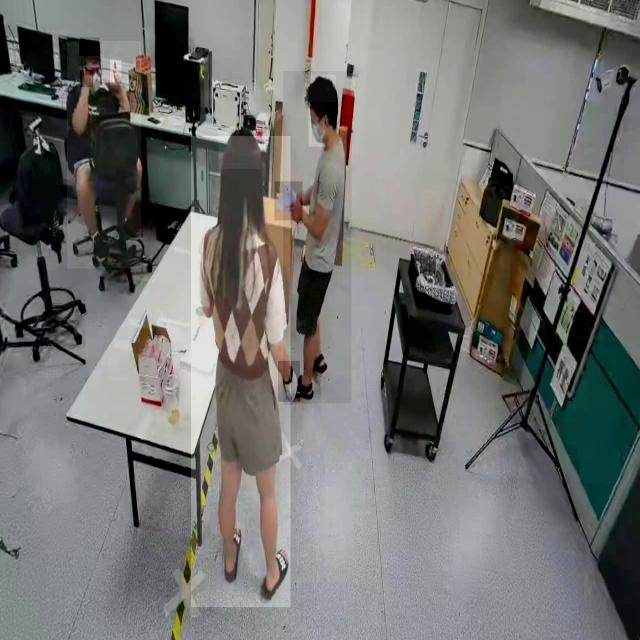face_mask: (308, 105, 326, 147)
hand_glove: (274, 182, 302, 220), (278, 361, 300, 403)
hand_noglove: (110, 60, 122, 86), (80, 70, 94, 88)
head_nohelmet: (219, 126, 261, 170), (306, 75, 336, 103), (80, 37, 100, 57)
person: (191, 136, 291, 608), (283, 71, 352, 405), (67, 41, 142, 269)
shoes: (88, 230, 110, 268)
